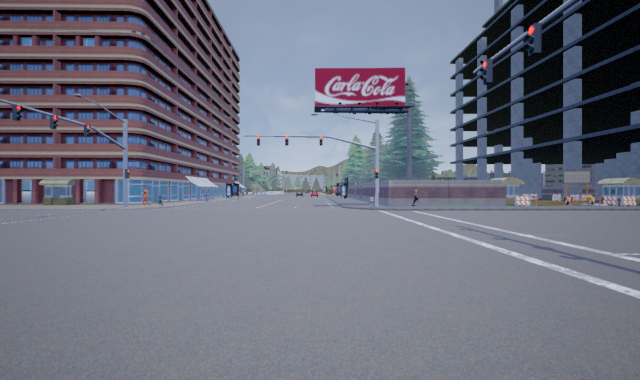pedestrian: (140, 185, 152, 207), (410, 185, 420, 206), (154, 191, 165, 206)
